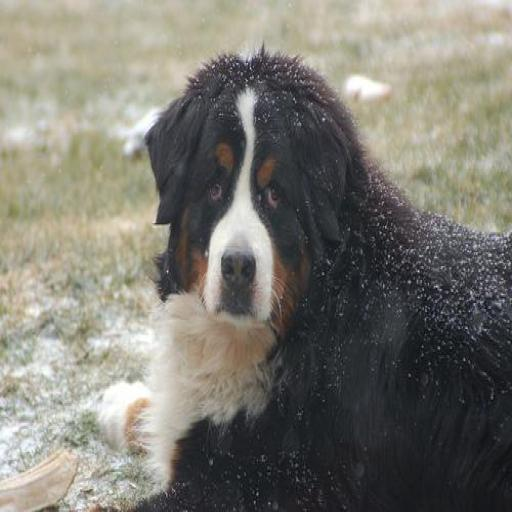dog_face: (144, 62, 339, 327)
